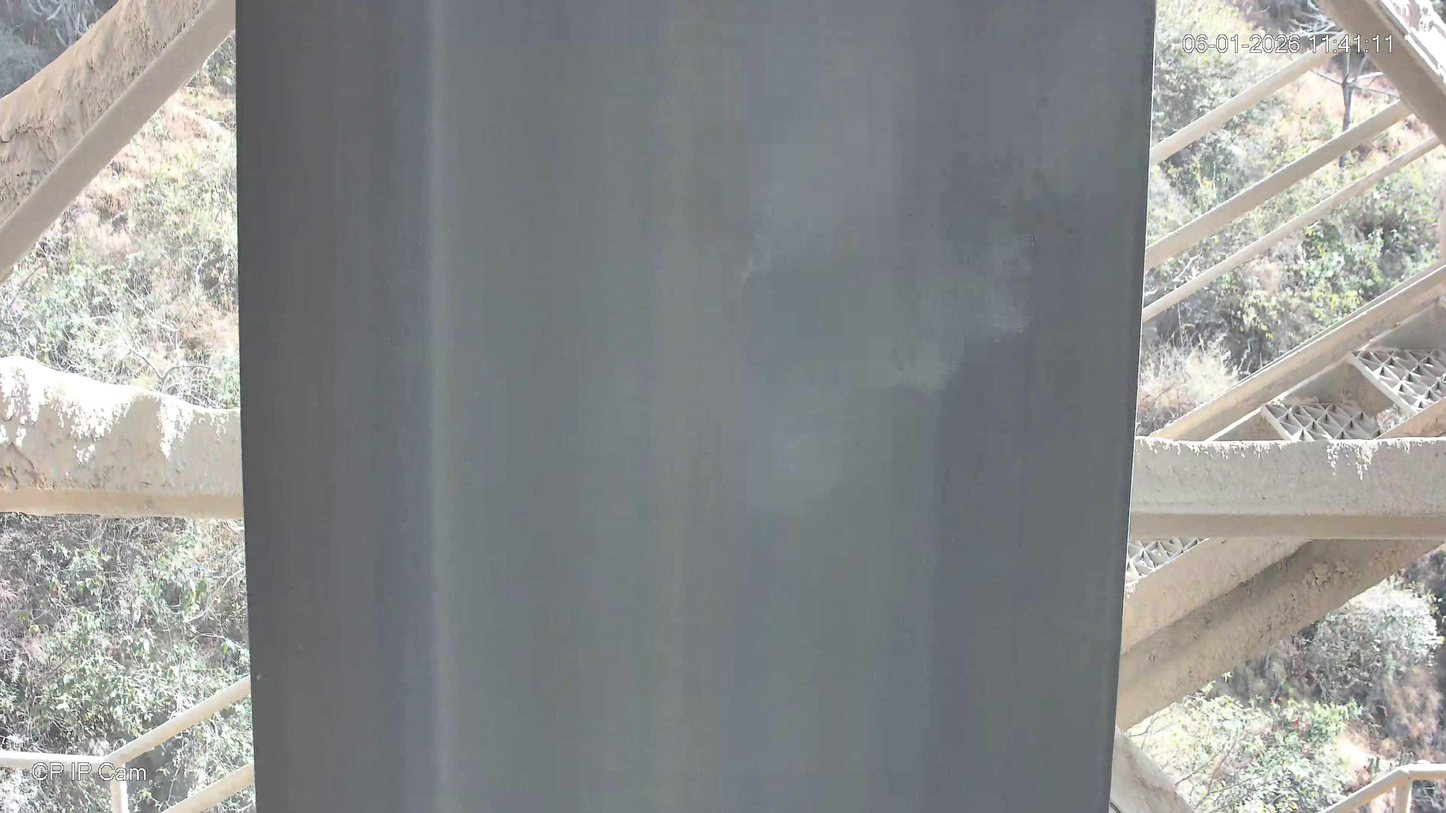belt_roi: (232, 0, 1151, 813)
